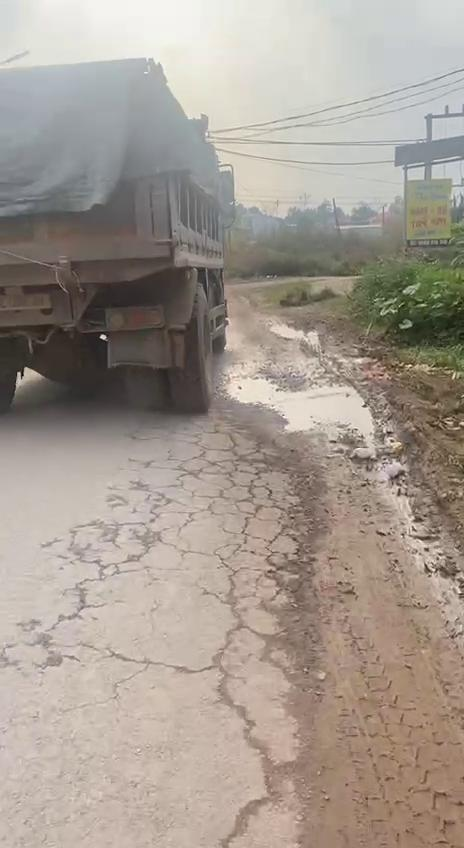pothole: (224, 376, 385, 447)
